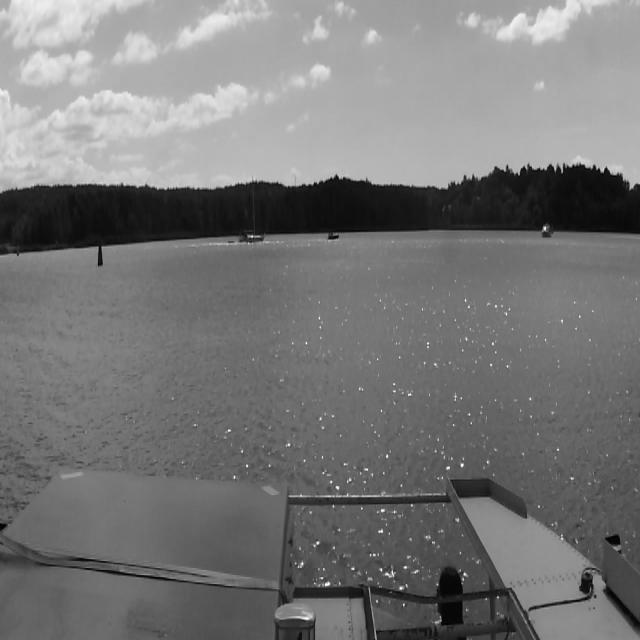buoy: (97, 244, 103, 266)
ship: (238, 175, 266, 245), (541, 224, 552, 238), (328, 233, 340, 240), (228, 240, 235, 244)
